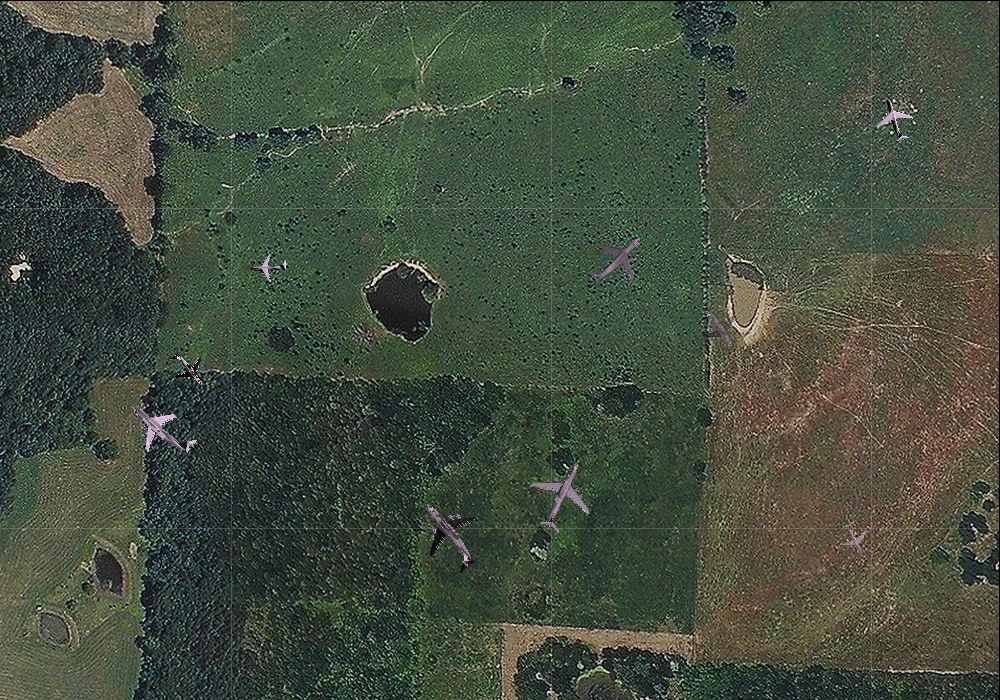plane: (396, 484, 500, 588), (114, 380, 210, 475), (515, 448, 609, 544), (571, 215, 659, 302), (688, 297, 748, 358), (159, 342, 214, 397), (870, 92, 921, 146), (832, 516, 877, 561), (249, 249, 286, 283)
